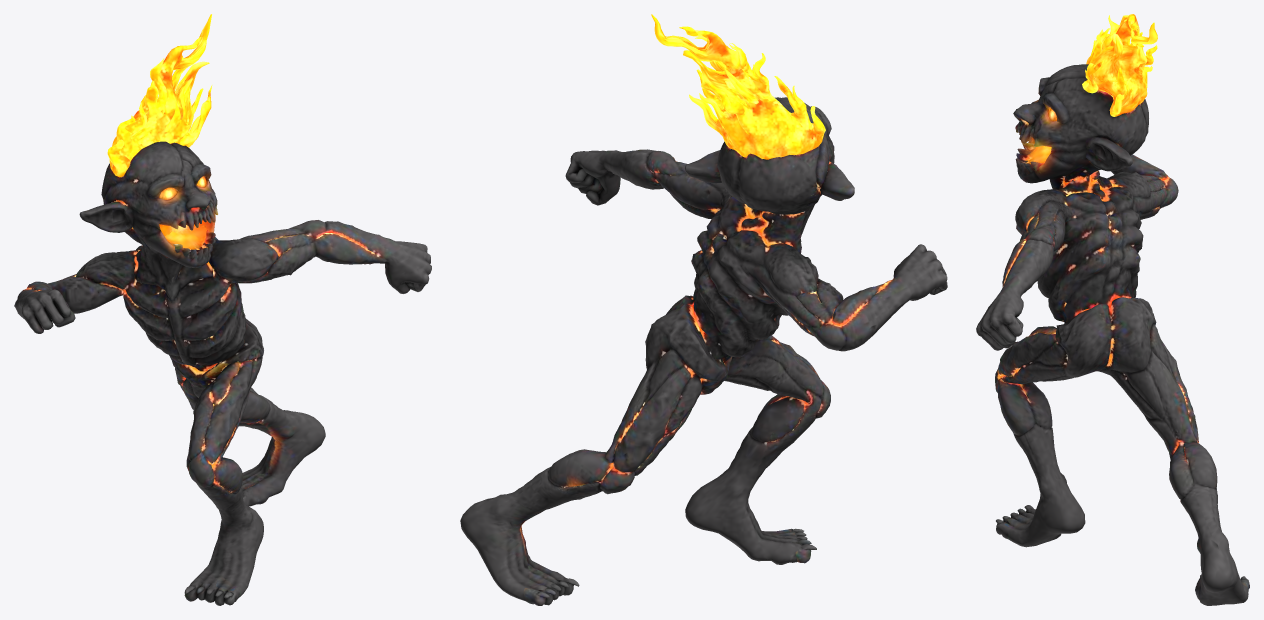
File: MZ4250 - Magmin_2 2025.glb
The picture shows the model from 3 angles, left to right: view 1: azimuth 30°, elevation 25°; view 2: azimuth 150°, elevation 25°; view 3: azimuth 270°, elevation 25°; orthographic projection. The views are drawn at different scales.
Parts seen in each view (by area): view 1: Body.002; view 2: Body.002; view 3: Body.002.
Boxes of the visible parts, x1,y1,x2,y2 form: Body.002: (14, 14, 431, 605); Body.002: (460, 14, 947, 605); Body.002: (976, 14, 1249, 605).
Size of the model in its own units: 58.47 by 78.79 by 35.98.
2 materials, 2 textured.
